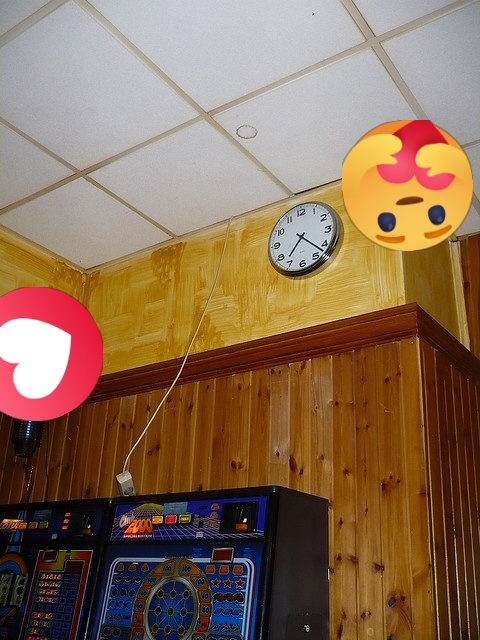care: (342, 120, 473, 251)
love: (0, 287, 103, 421)
